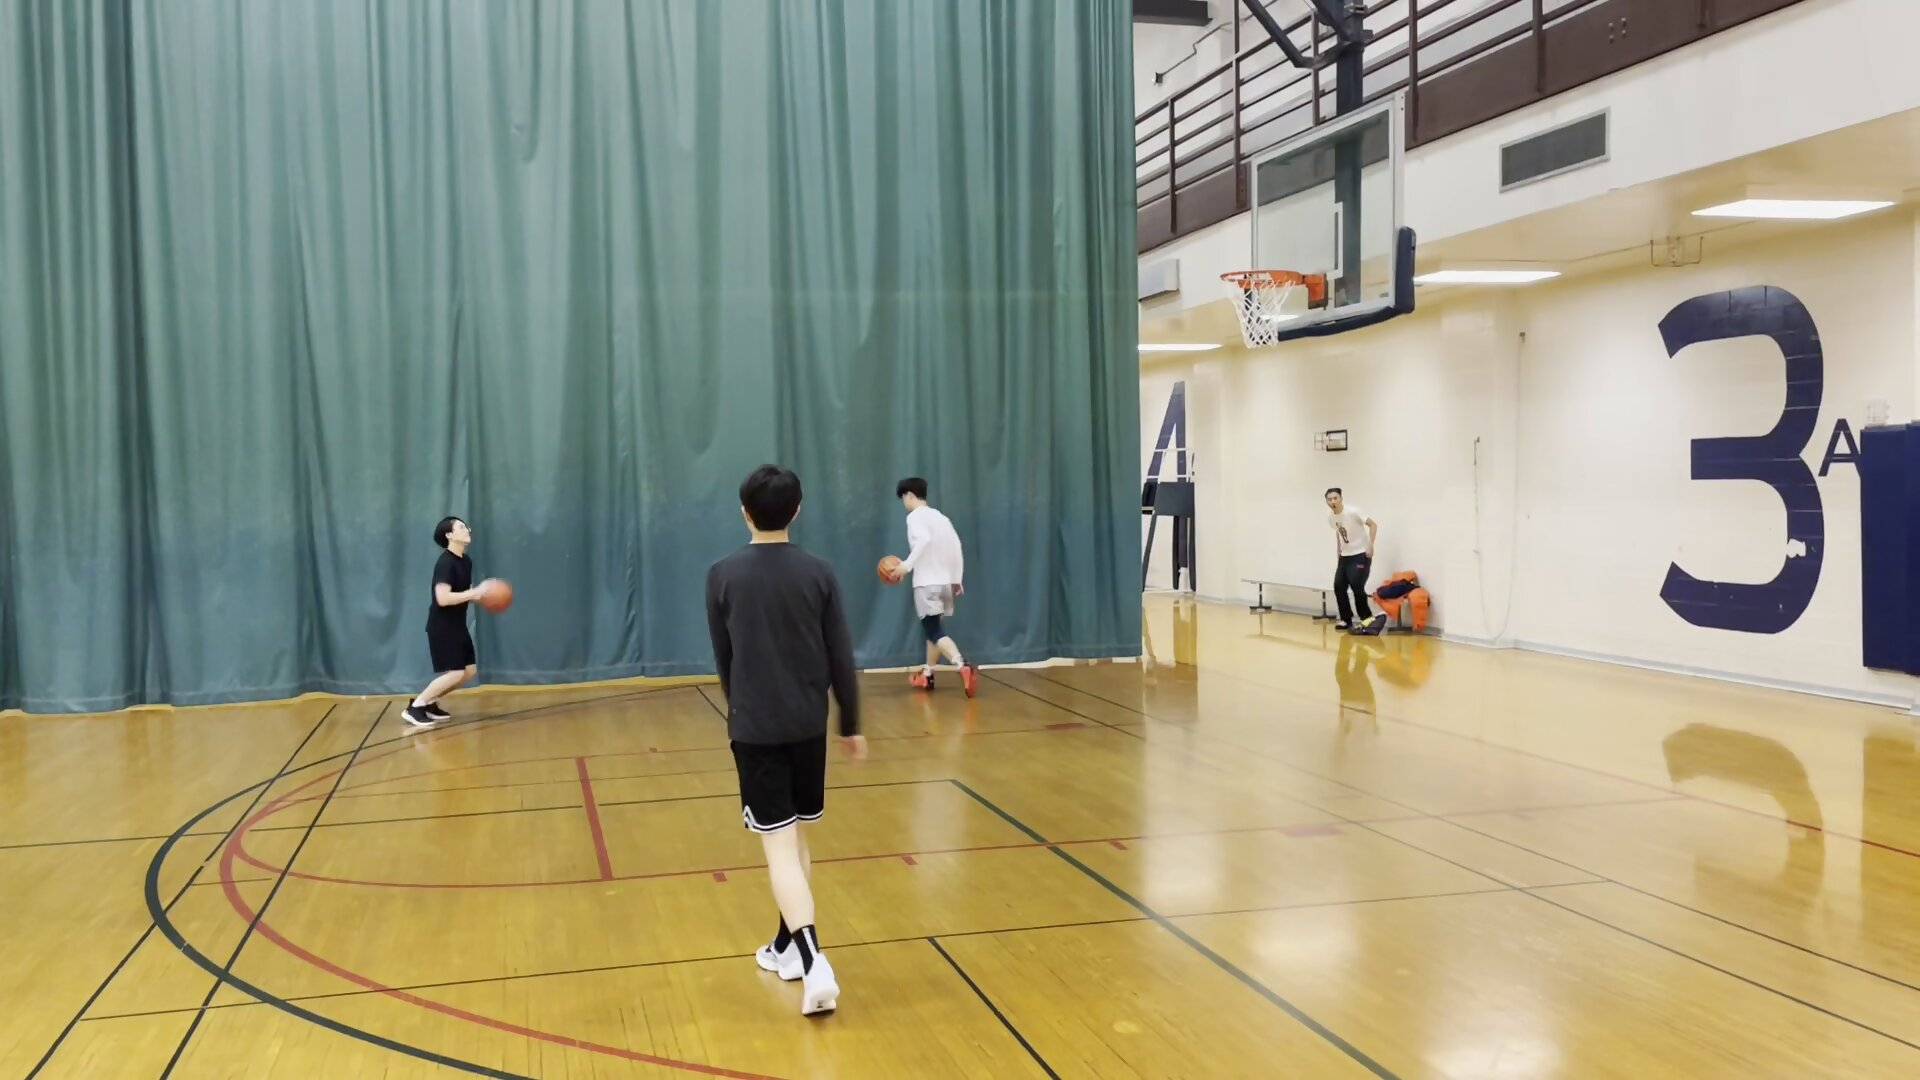ball: (472, 579, 519, 615), (872, 554, 906, 592)
net: (1229, 315, 1289, 351)
player: (703, 459, 889, 1034), (888, 481, 987, 698), (401, 514, 496, 735), (1315, 486, 1386, 634)
rim: (1215, 265, 1310, 291)
